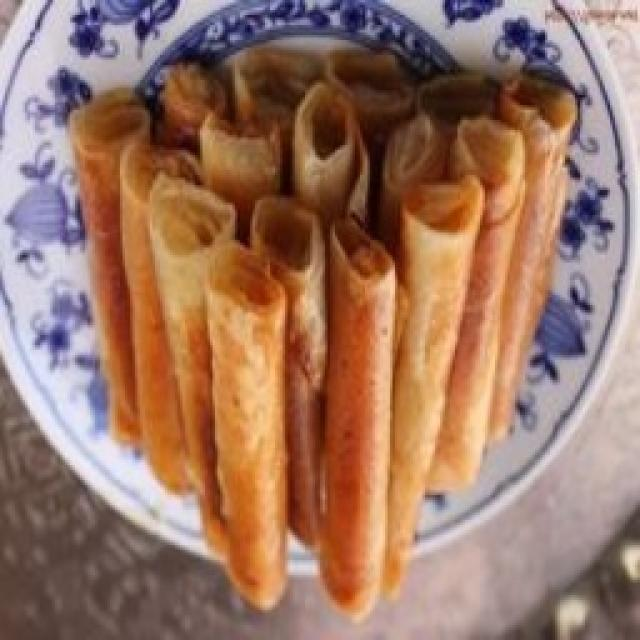Brik: (65, 32, 578, 625)
